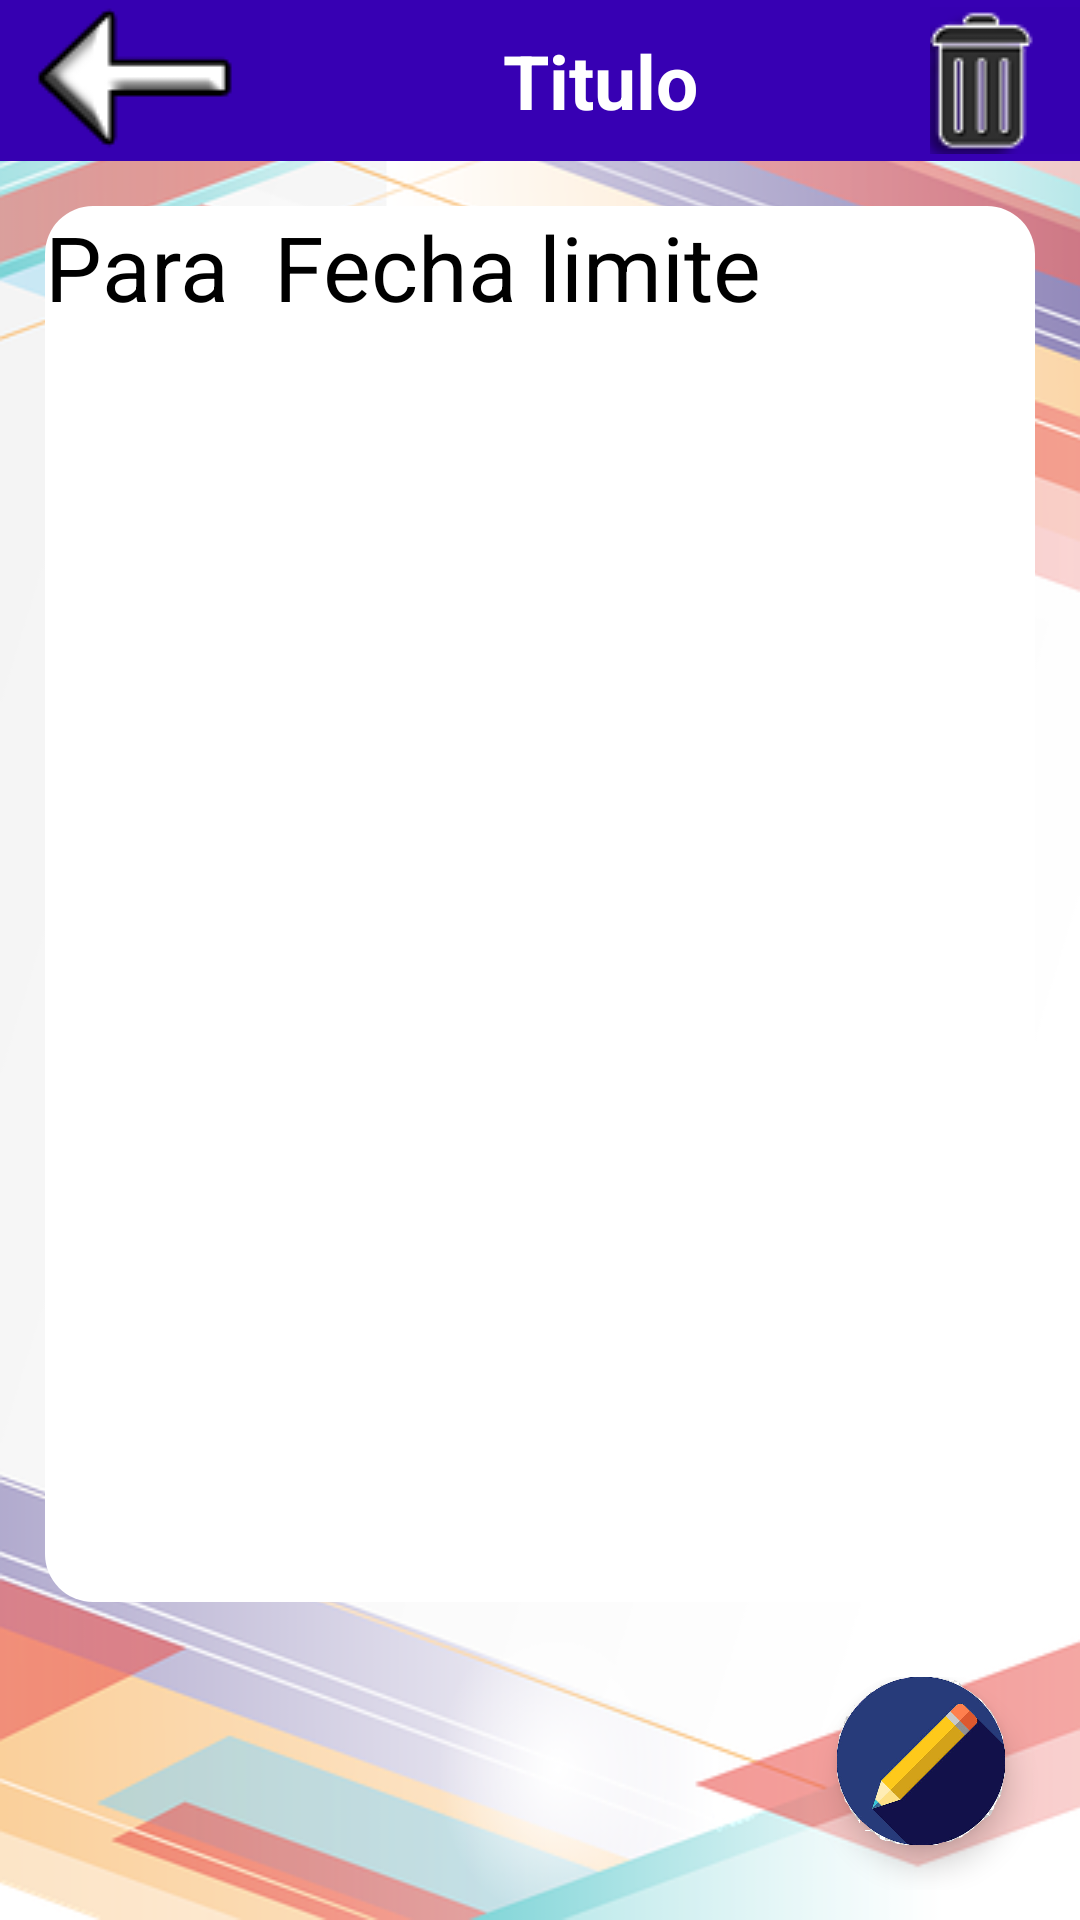

Named icons in this screenshot (1080px x 1920px) and their centers, (x=x, y=y):
backeste: (x=135, y=78)
iconoedit: (x=921, y=1761)
trashnew: (x=981, y=83)
